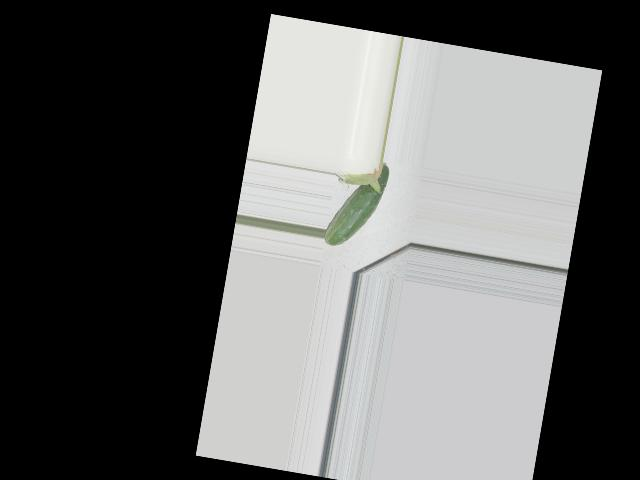cucumber: (323, 154, 390, 253)
